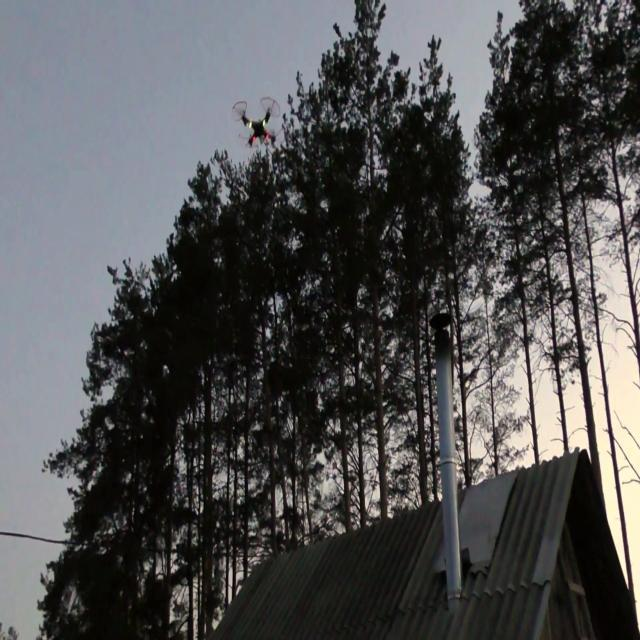Drons: (230, 96, 286, 150)
